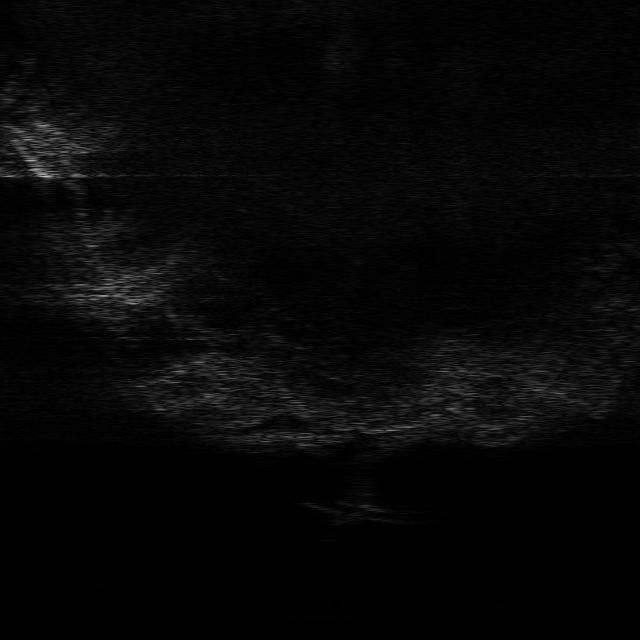plane: (302, 499, 412, 526)
